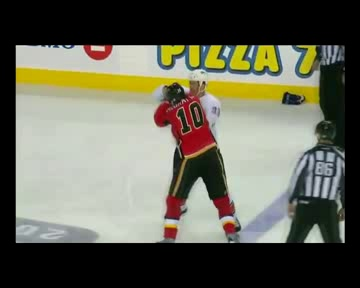normal: (135, 62, 245, 239)
